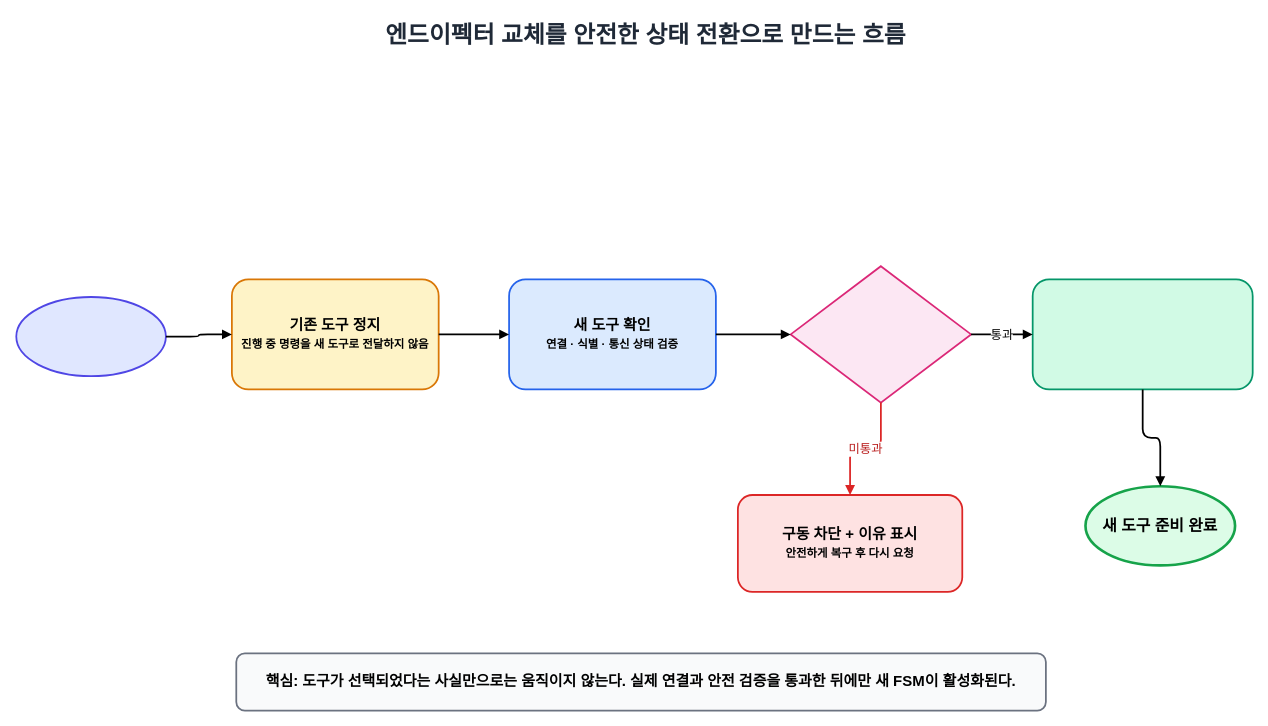
Some shapes in this 1268 by 726 pixel diagram are drawn without their labels. The shapes that lost their labels are listed below. From the top down, each one's box as (x1, y1, x2, y2) in pixels, then its label:
(15, 296, 166, 377): 도구 교체 요청
(789, 265, 972, 403): 안전 조건 확인 분리 · 비상정지 · 오류 · 준비 상태
(1031, 278, 1253, 390): 프로파일 + 전용 FSM 적용 도구 특성에 맞는 제어 규칙으로 전환
